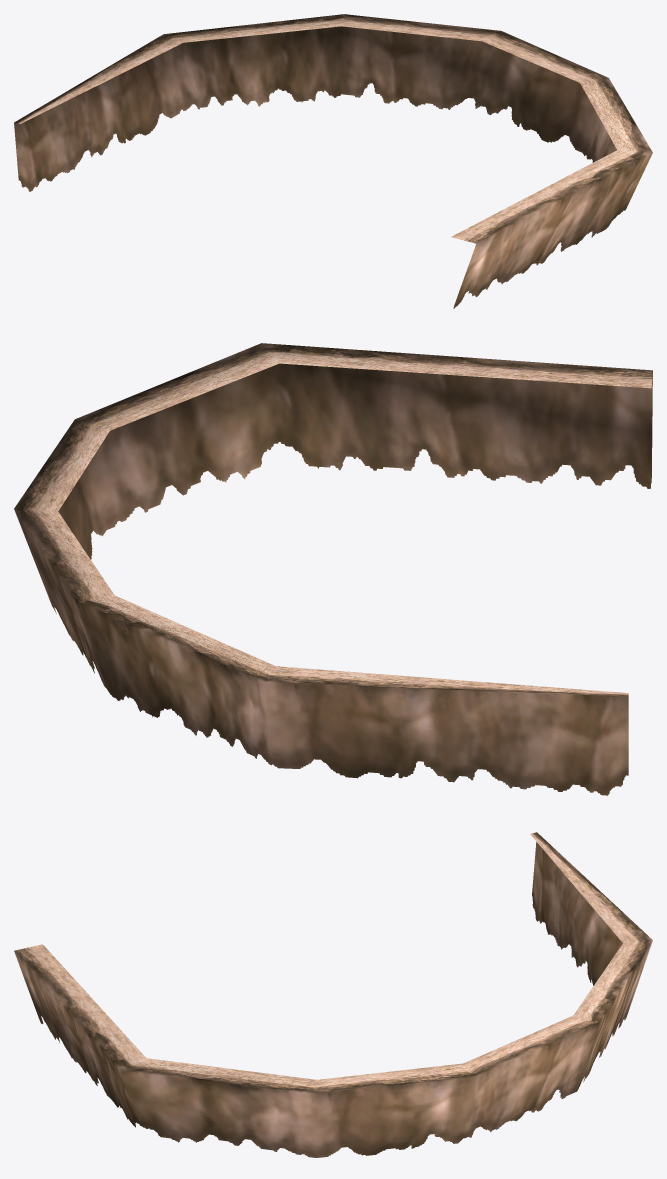
The model's file is OVERHILL_A_01_LINE35.fbx.
3 renders of one model, top to bottom at view 1: azimuth 30°, elevation 25°; view 2: azimuth 150°, elevation 25°; view 3: azimuth 270°, elevation 25°, orthographic. The views are drawn at different scales.
Visible parts, largest first — view 1: OVERHILL_A_01_LINE35; view 2: OVERHILL_A_01_LINE35; view 3: OVERHILL_A_01_LINE35.
Part boxes in pixels (x1=…): OVERHILL_A_01_LINE35: x1=14, y1=14, x2=652, y2=308; OVERHILL_A_01_LINE35: x1=14, y1=343, x2=652, y2=795; OVERHILL_A_01_LINE35: x1=14, y1=832, x2=652, y2=1157.
Size of the model in its own units: 25803 by 3900 by 26611.
Materials: 1 (1 with a texture image).
